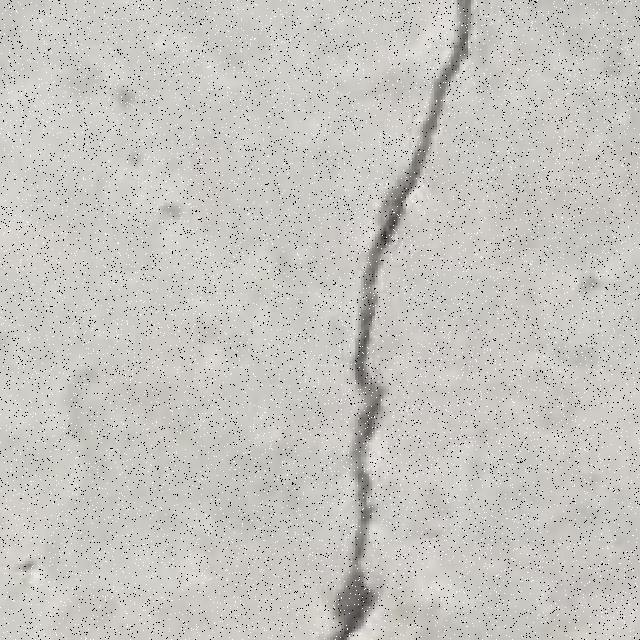Crack: (327, 0, 473, 637)
